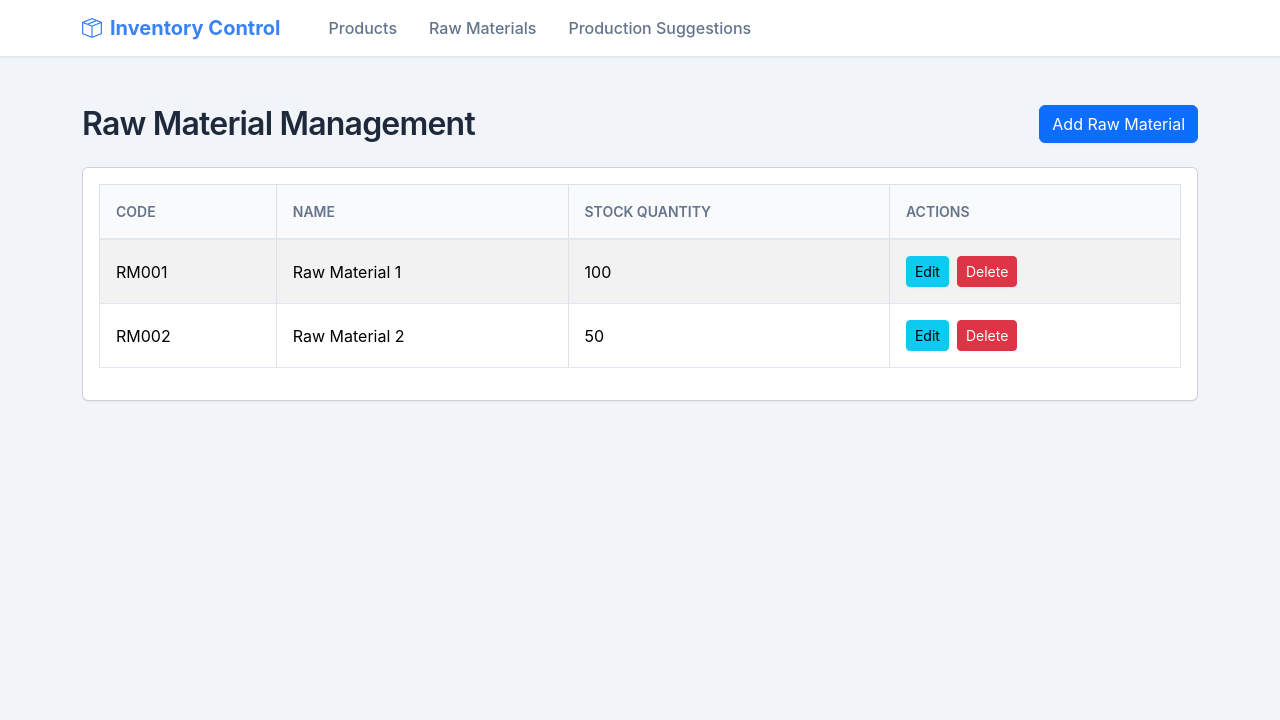
Raw Material Management › should edit a raw material
Click the button "Edit" in the row of "RM001" at (928, 272), box [906,256,949,287]
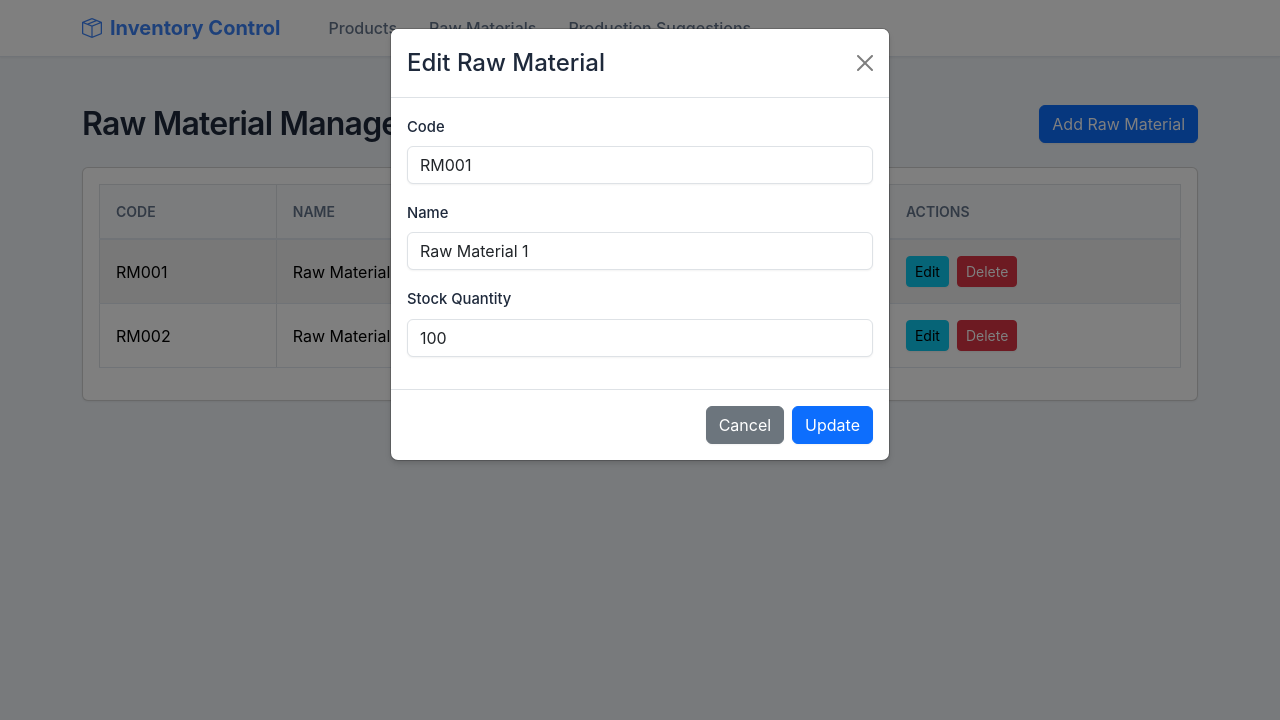
Now the text "Edit Raw Material" is shown, box [407,45,605,81]
Replace the text in the 2nd field with "Updated Raw Material" at (640, 251), box [407,232,873,270]
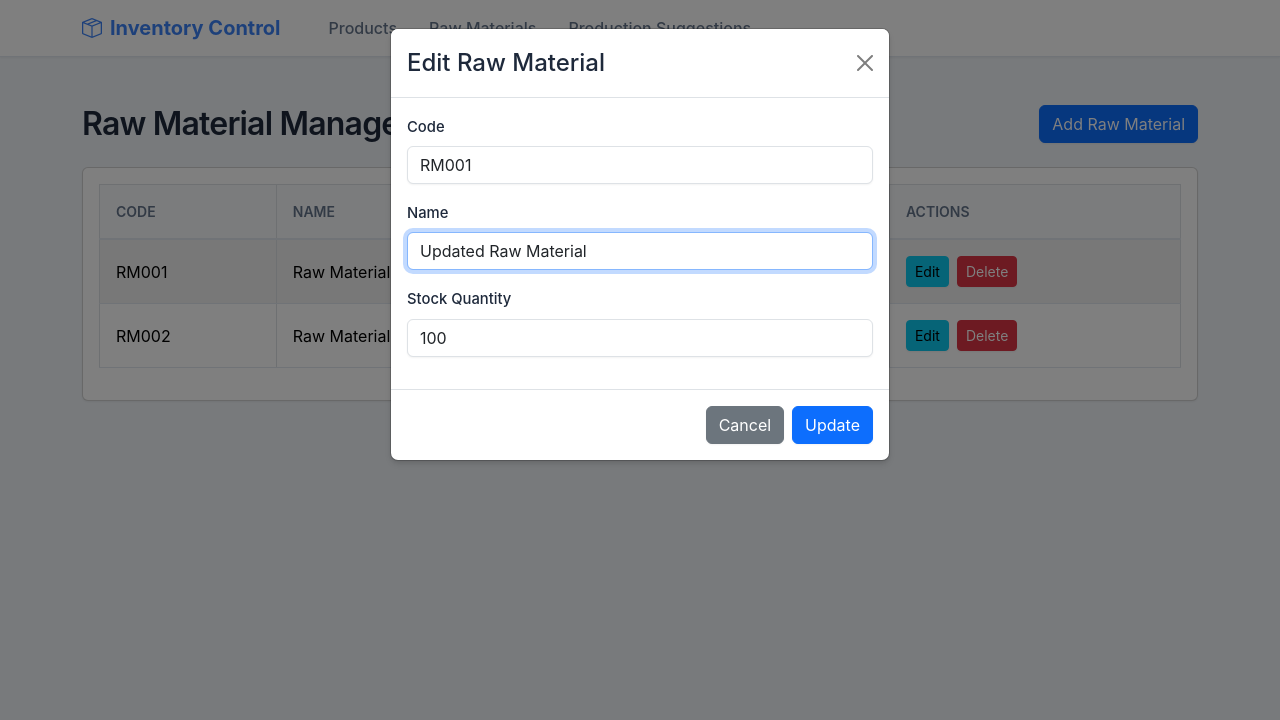
Replace the text in the number field with "150" at (640, 338), box [407,319,873,357]
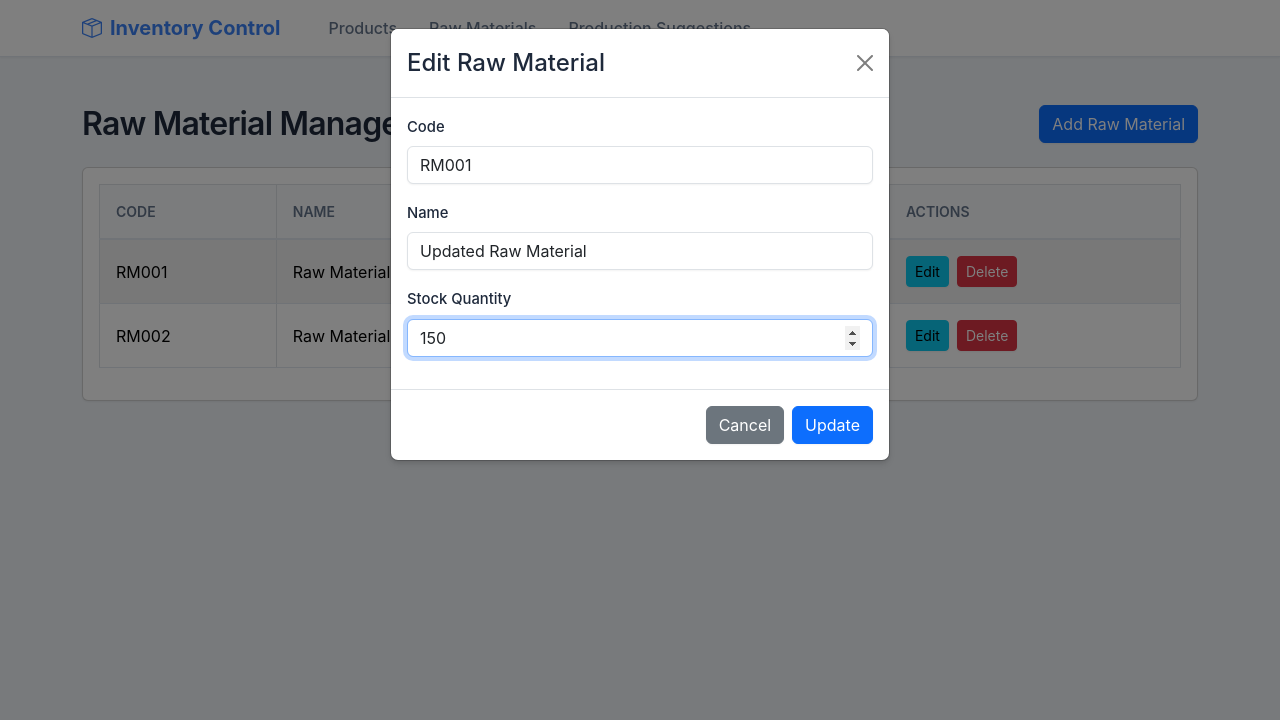
Click the button "Update" at (833, 425), box [792,406,873,444]
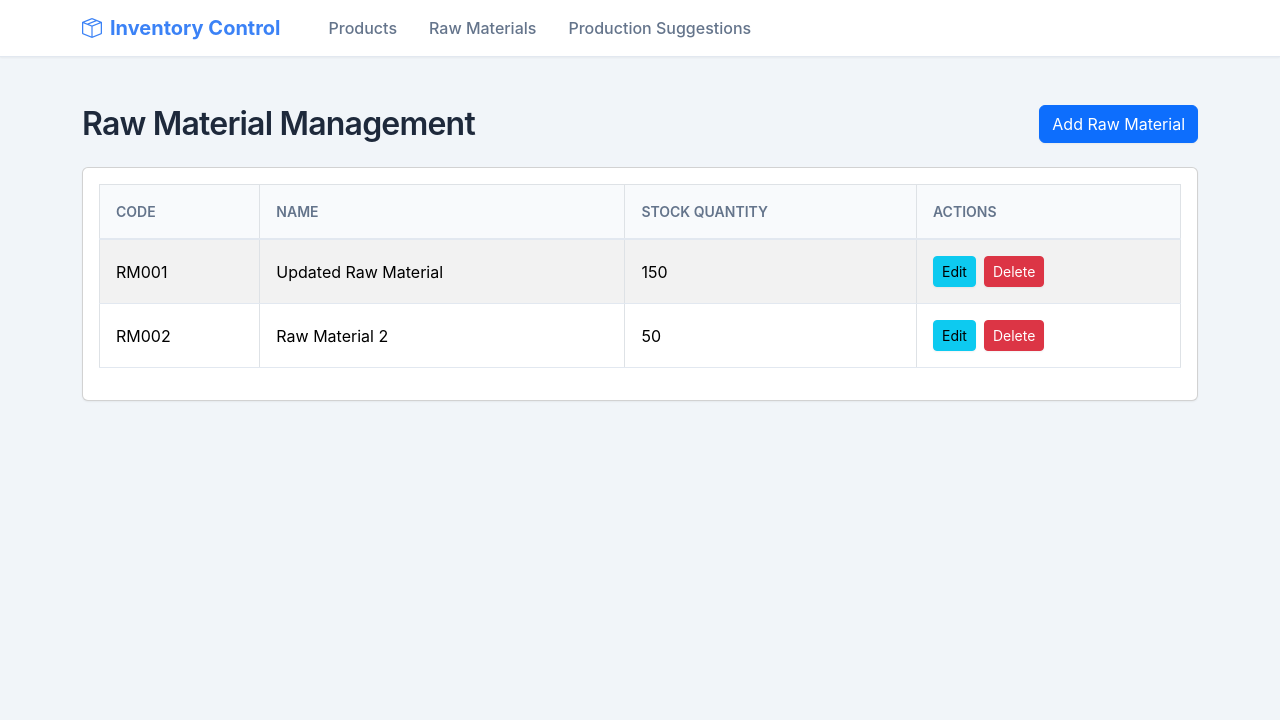
Now the text "Updated Raw Material" is shown, box [260,239,625,304]
Now the text "150" is shown, box [625,239,916,304]
